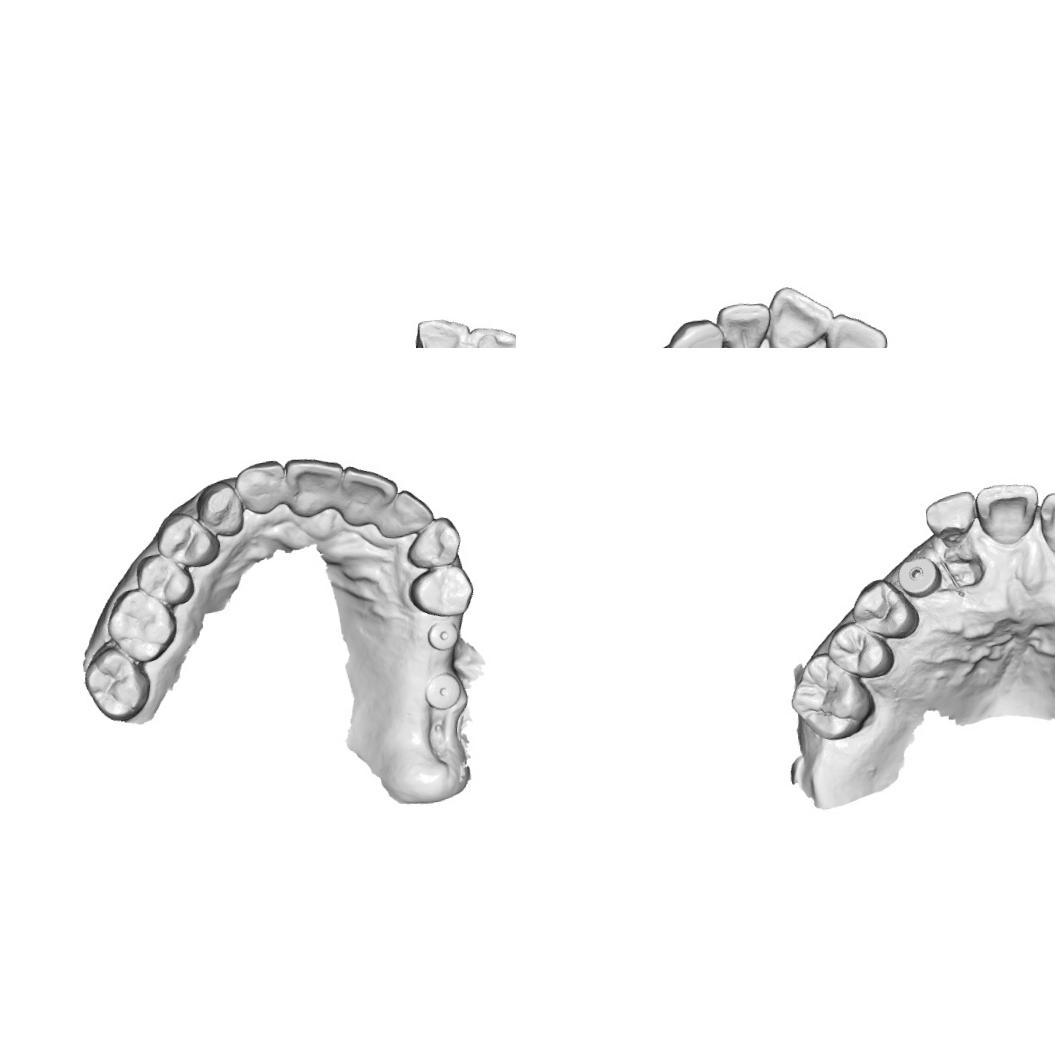canine: (190, 476, 248, 542), (402, 514, 466, 572), (663, 316, 727, 348)
implant: (420, 670, 464, 712), (900, 554, 943, 596), (424, 615, 463, 654)
incisor: (972, 475, 1044, 549), (761, 281, 838, 348), (334, 460, 404, 531), (282, 452, 350, 524), (372, 485, 438, 545), (921, 486, 981, 552), (229, 456, 290, 518), (714, 294, 776, 348), (822, 307, 891, 348), (410, 313, 474, 348), (1035, 486, 1055, 562), (461, 321, 516, 348)
molar: (785, 647, 880, 744), (102, 582, 182, 668), (78, 638, 155, 726)
premolar: (846, 572, 919, 644), (824, 616, 896, 684), (151, 506, 222, 572), (404, 562, 477, 620), (130, 548, 198, 610)
